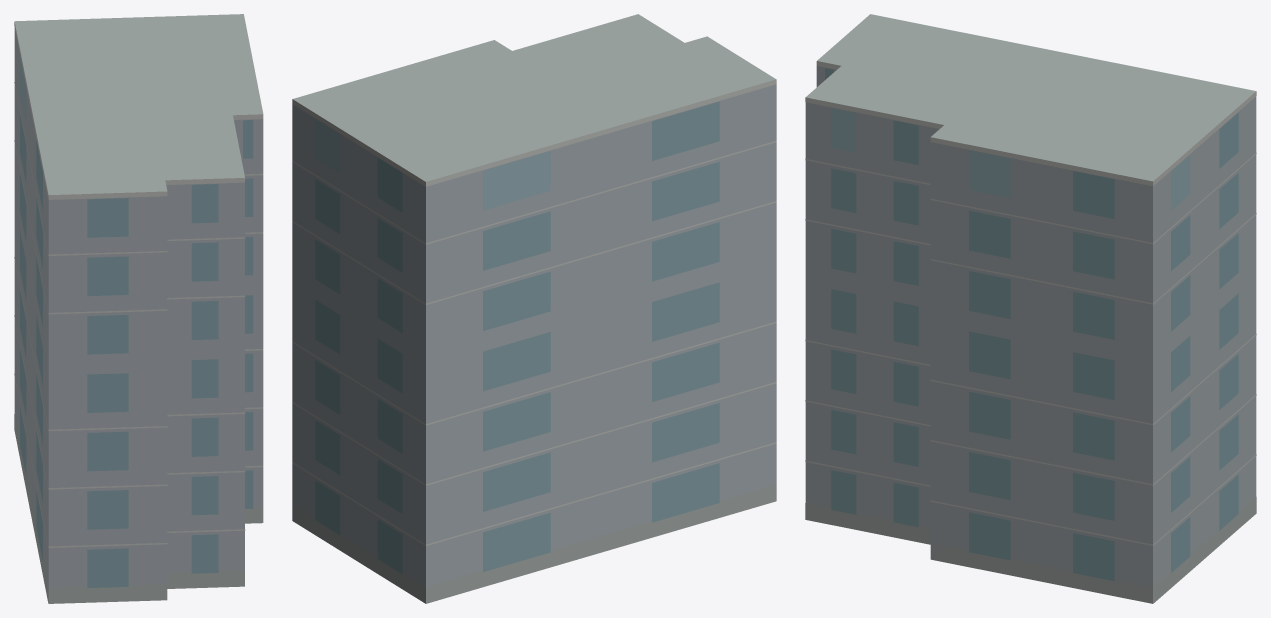
The model's file is survey-upis-32999958.glb.
The picture shows the model from 3 angles, left to right: view 1: azimuth 30°, elevation 25°; view 2: azimuth 150°, elevation 25°; view 3: azimuth 270°, elevation 25°; orthographic projection. The views are drawn at different scales.
Visible parts, largest first — view 1: survey-upis-32999958.tmp; view 2: survey-upis-32999958.tmp; view 3: survey-upis-32999958.tmp.
Boxes of the visible parts, <box> form: survey-upis-32999958.tmp: <box>14,14,263,603</box>; survey-upis-32999958.tmp: <box>292,14,776,603</box>; survey-upis-32999958.tmp: <box>805,14,1256,603</box>.
Size of the model in its own units: 17.75 by 20.85 by 20.2.
